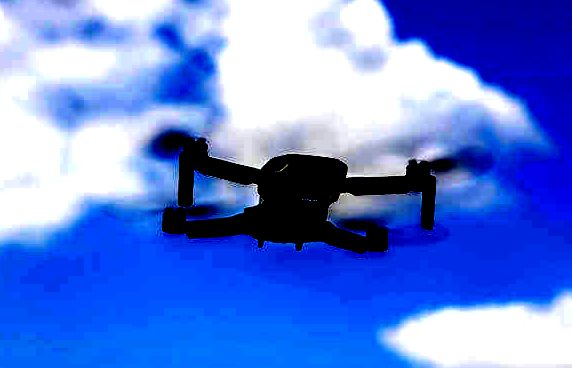Drone: (145, 132, 463, 258)
